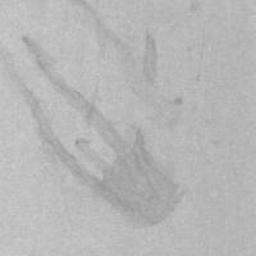Water spot: (0, 33, 188, 230), (60, 0, 184, 131)
